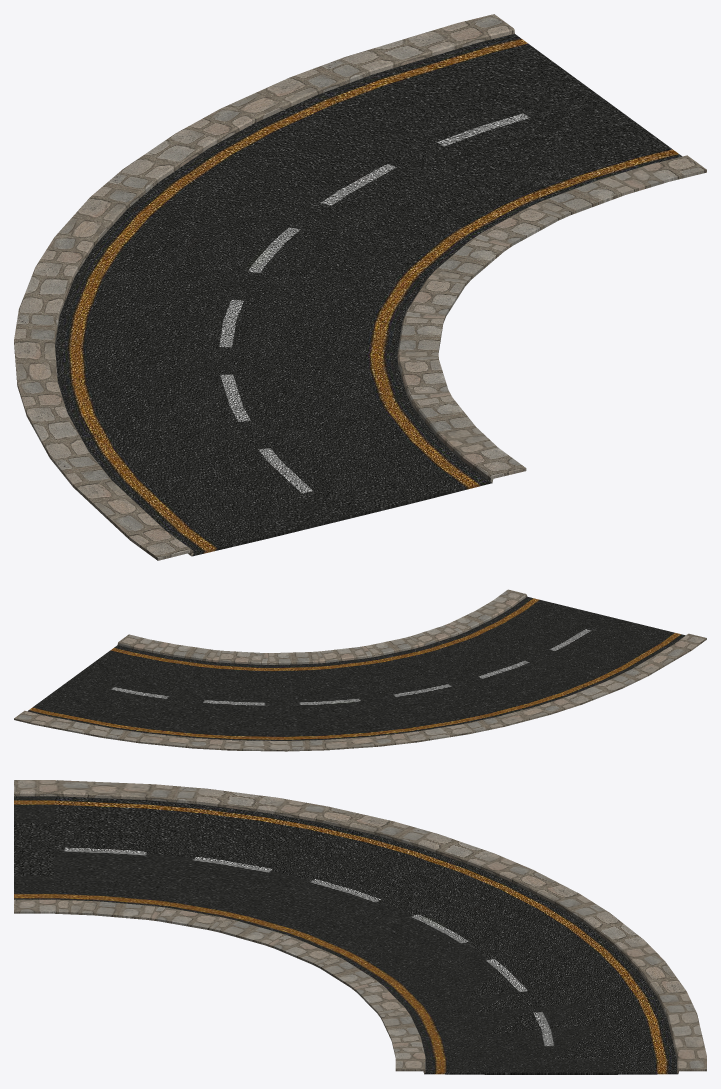
Rendered from modular-city-road-pack-game-ready-4in-2-001-0.glb.
3 views of the same model, one above another, from view 1: azimuth 30°, elevation 25°; view 2: azimuth 150°, elevation 25°; view 3: azimuth 270°, elevation 25° (orthographic). The views are drawn at different scales.
Visible parts, largest first — view 1: 4in 2.001_0; view 2: 4in 2.001_0; view 3: 4in 2.001_0.
Part boxes in pixels (x1,y1,x2,y2): 4in 2.001_0: (14, 14, 706, 560); 4in 2.001_0: (14, 589, 706, 751); 4in 2.001_0: (14, 780, 706, 1074).
Bounding box in the file's own units: 5.95 × 0.0526 × 6.02.
2 materials, 2 textured.
